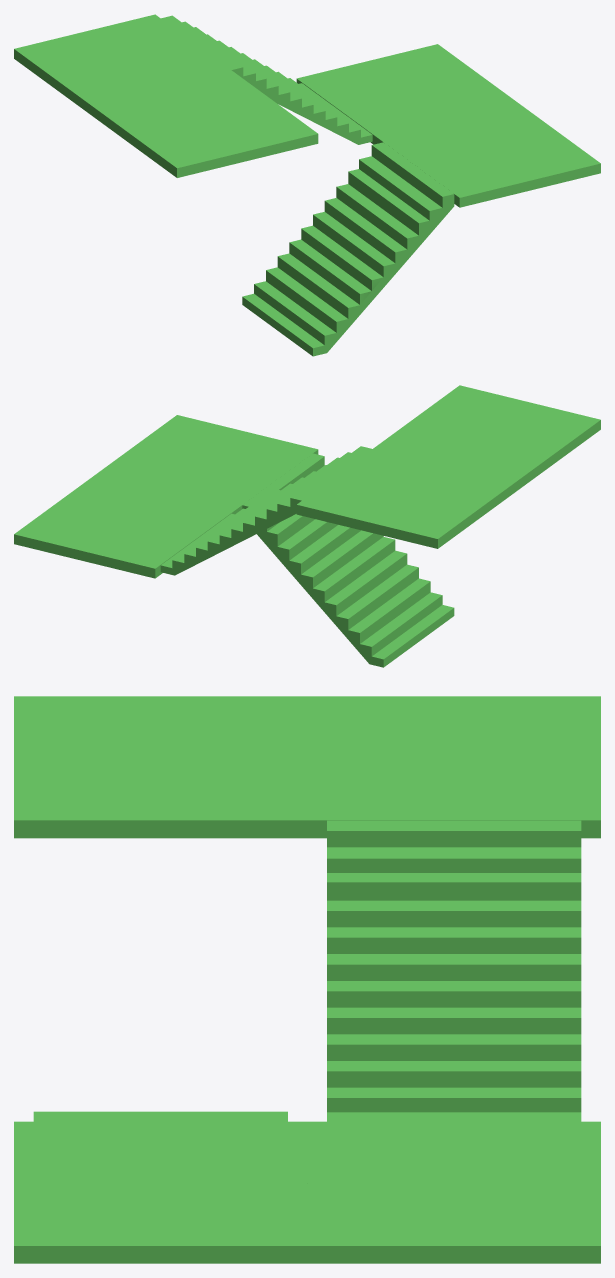
Rendered from Gen_Staircase_Int_A.fbx.
The picture shows the model from 3 angles, top to bottom: view 1: azimuth 30°, elevation 25°; view 2: azimuth 150°, elevation 25°; view 3: azimuth 270°, elevation 25°; orthographic projection. The views are drawn at different scales.
Parts seen in each view (by area): view 1: Gen_Staircase_Int_A; view 2: Gen_Staircase_Int_A; view 3: Gen_Staircase_Int_A.
Boxes of the visible parts, left/top/right/bottom form: Gen_Staircase_Int_A: left=14, top=14, right=600, bottom=356; Gen_Staircase_Int_A: left=14, top=385, right=600, bottom=667; Gen_Staircase_Int_A: left=14, top=696, right=600, bottom=1263.
Bounding box in the file's own units: 900 × 460 × 600.
